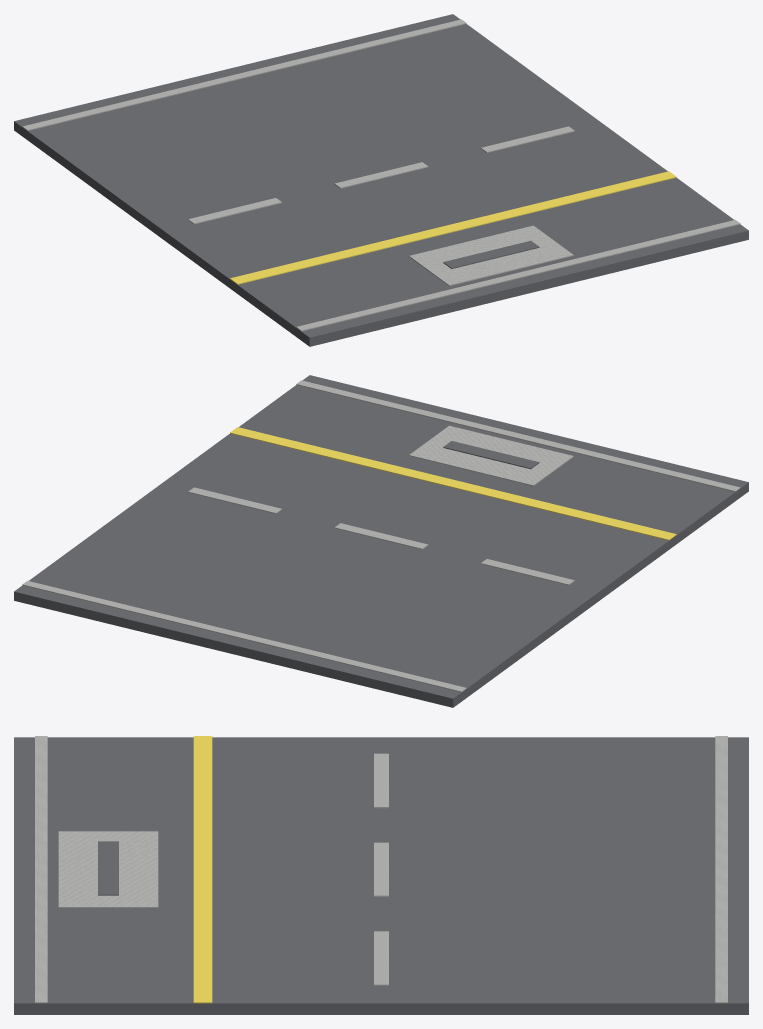
File: bus-station-and-city-transit-road-tile-bus-lane-04f7c199__34215.glb
3 renders of one model, top to bottom at view 1: azimuth 30°, elevation 25°; view 2: azimuth 150°, elevation 25°; view 3: azimuth 270°, elevation 25°, orthographic. The views are drawn at different scales.
Visible parts, largest first — view 1: road-tile-bus-lane-charcoal, road-tile-bus-lane-concrete, road-tile-bus-lane-canary; view 2: road-tile-bus-lane-charcoal, road-tile-bus-lane-concrete, road-tile-bus-lane-canary; view 3: road-tile-bus-lane-charcoal, road-tile-bus-lane-concrete, road-tile-bus-lane-canary.
Boxes of the visible parts, x1,y1,x2,y2 form: road-tile-bus-lane-charcoal: [14, 14, 748, 346]; road-tile-bus-lane-concrete: [22, 19, 740, 331]; road-tile-bus-lane-canary: [230, 171, 676, 284]; road-tile-bus-lane-charcoal: [14, 375, 748, 707]; road-tile-bus-lane-concrete: [22, 380, 740, 692]; road-tile-bus-lane-canary: [230, 427, 676, 540]; road-tile-bus-lane-charcoal: [14, 737, 748, 1014]; road-tile-bus-lane-concrete: [35, 736, 727, 1003]; road-tile-bus-lane-canary: [193, 736, 212, 1003].
Size of the model in its own units: 6 by 0.1444 by 7.
3 materials, 1 textured.
